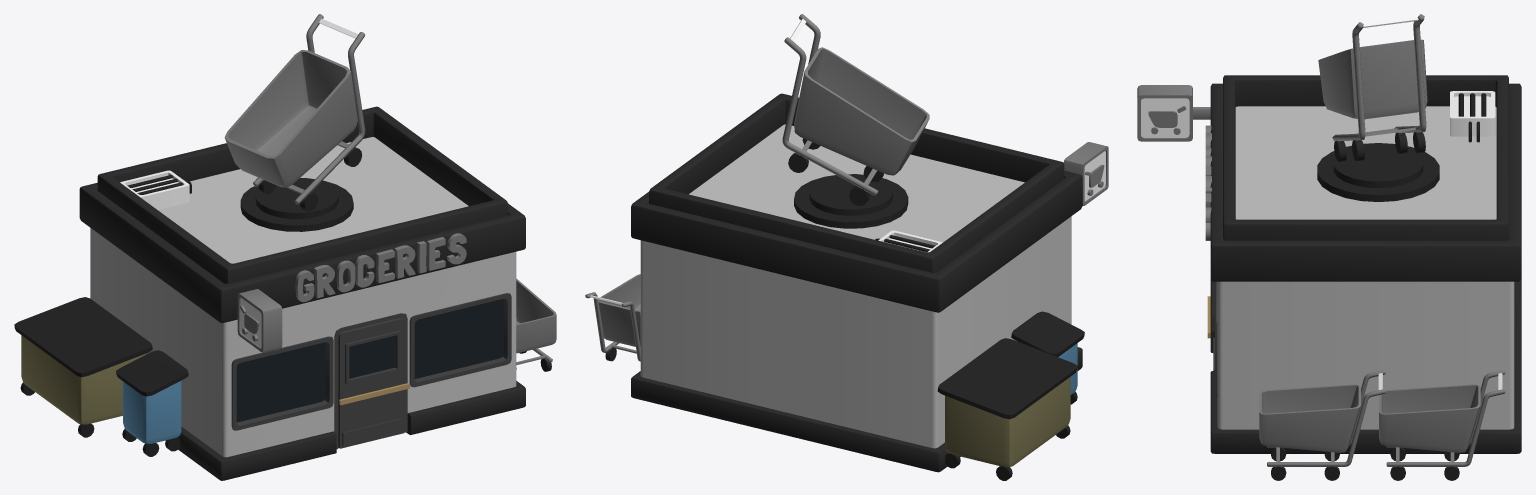
Rendered from SM_grocerystore.fbx.
The picture shows the model from 3 angles, left to right: view 1: azimuth 30°, elevation 25°; view 2: azimuth 150°, elevation 25°; view 3: azimuth 270°, elevation 25°; orthographic projection. The views are drawn at different scales.
Visible parts, largest first — view 1: Object048; view 2: Object048; view 3: Object048.
Boxes of the visible parts, bbox=[...] form: Object048: bbox=[14, 14, 556, 480]; Object048: bbox=[585, 14, 1108, 480]; Object048: bbox=[1137, 14, 1521, 480].
Size of the model in its own units: 308 by 240 by 218.
